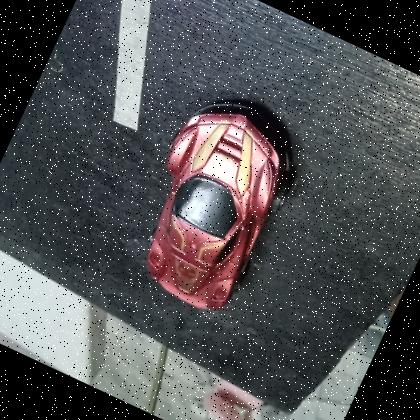Car: (147, 100, 291, 310)
